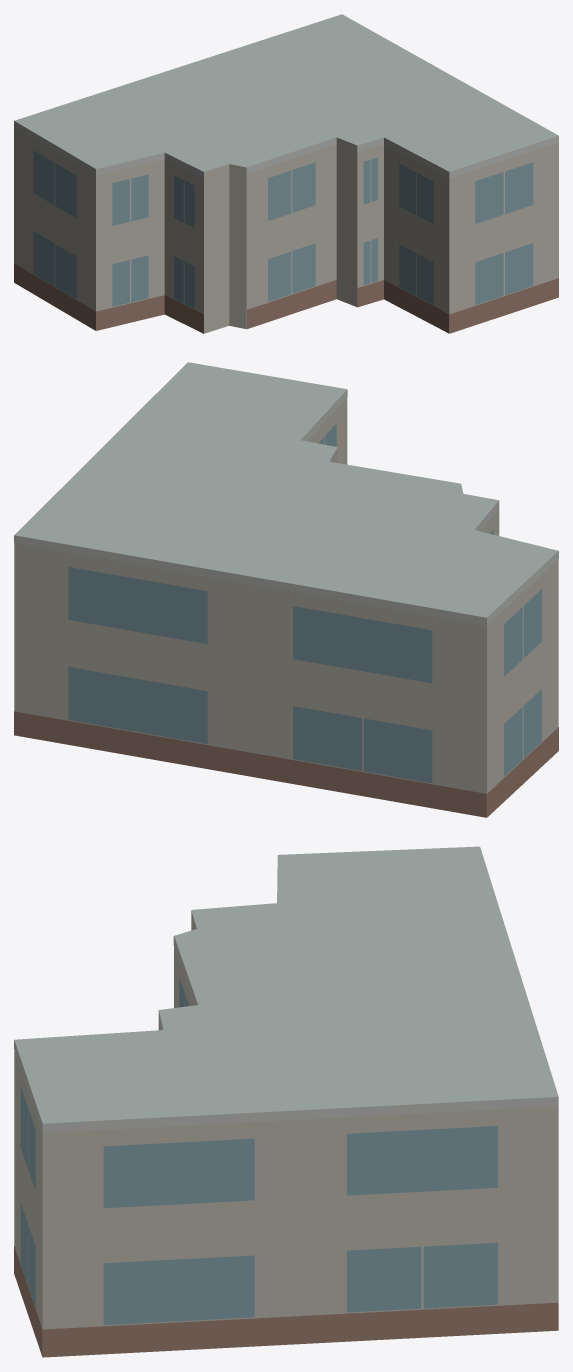
The model's file is survey-upis-32505699.glb.
3 views of the same model, one above another, from view 1: azimuth 30°, elevation 25°; view 2: azimuth 150°, elevation 25°; view 3: azimuth 270°, elevation 25° (orthographic). The views are drawn at different scales.
Visible parts, largest first — view 1: survey-upis-32505699.tmp; view 2: survey-upis-32505699.tmp; view 3: survey-upis-32505699.tmp.
Part boxes in pixels (x1,y1,x2,y2): survey-upis-32505699.tmp: [14, 14, 558, 333]; survey-upis-32505699.tmp: [14, 362, 558, 817]; survey-upis-32505699.tmp: [14, 846, 558, 1357].
Bounding box in the file's own units: 15.53 × 6.1 × 12.89.
